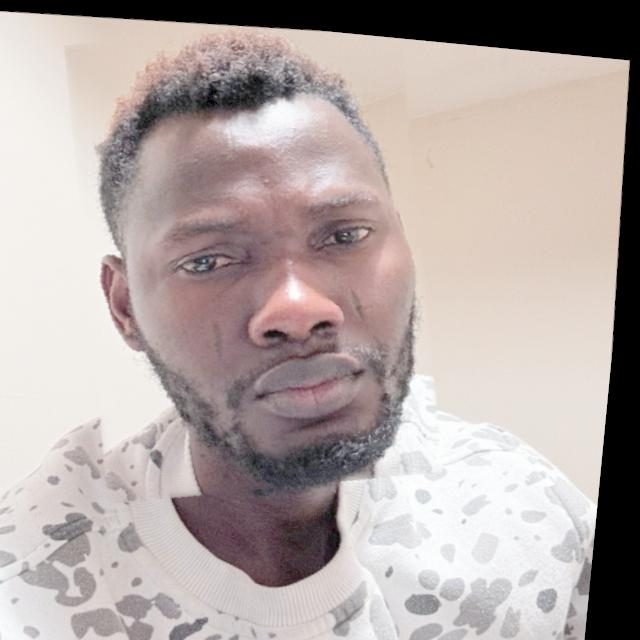sad: (47, 6, 467, 513)
